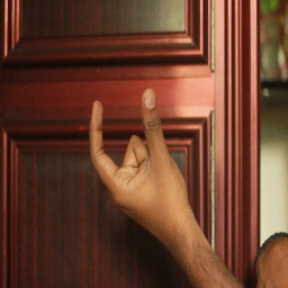U: (73, 82, 181, 216)
